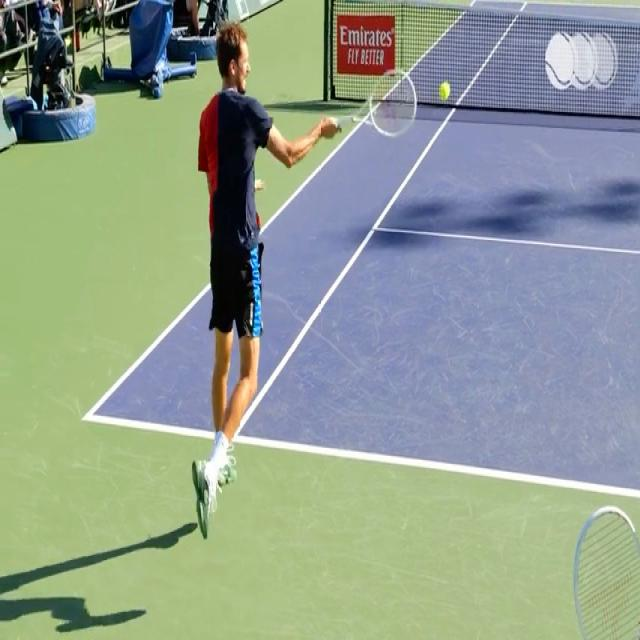forehand-stroke: (194, 29, 416, 542)
